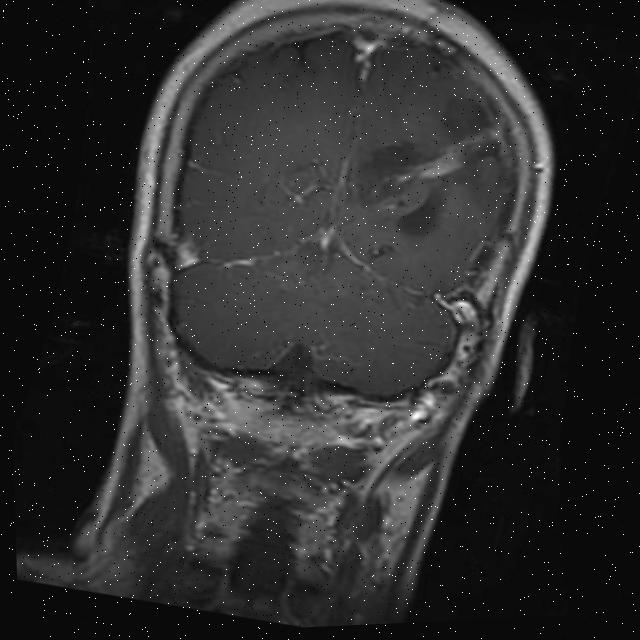Glioma: (371, 99, 509, 212)
